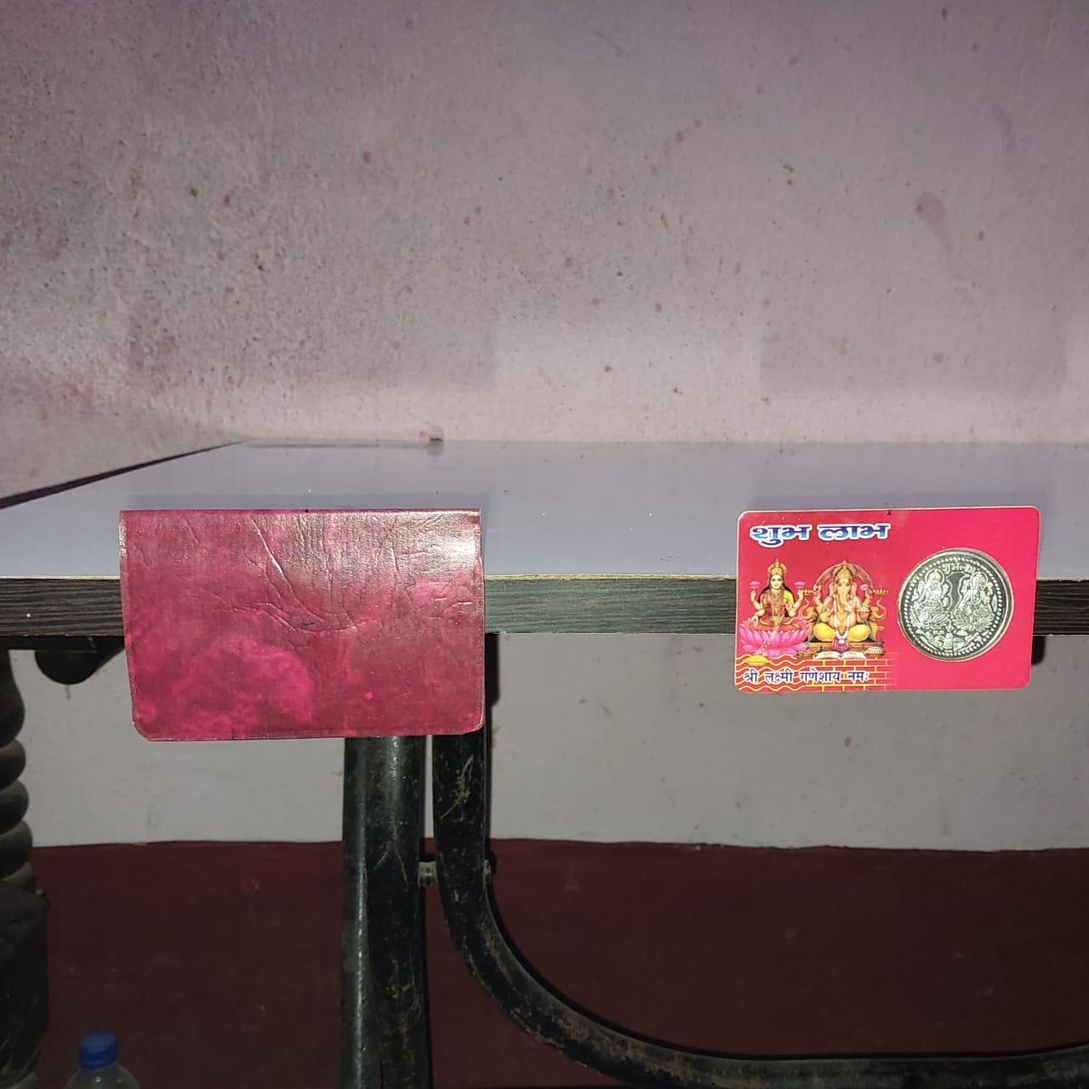blessing_card: (737, 506, 1042, 690)
wallet: (117, 506, 498, 741)
